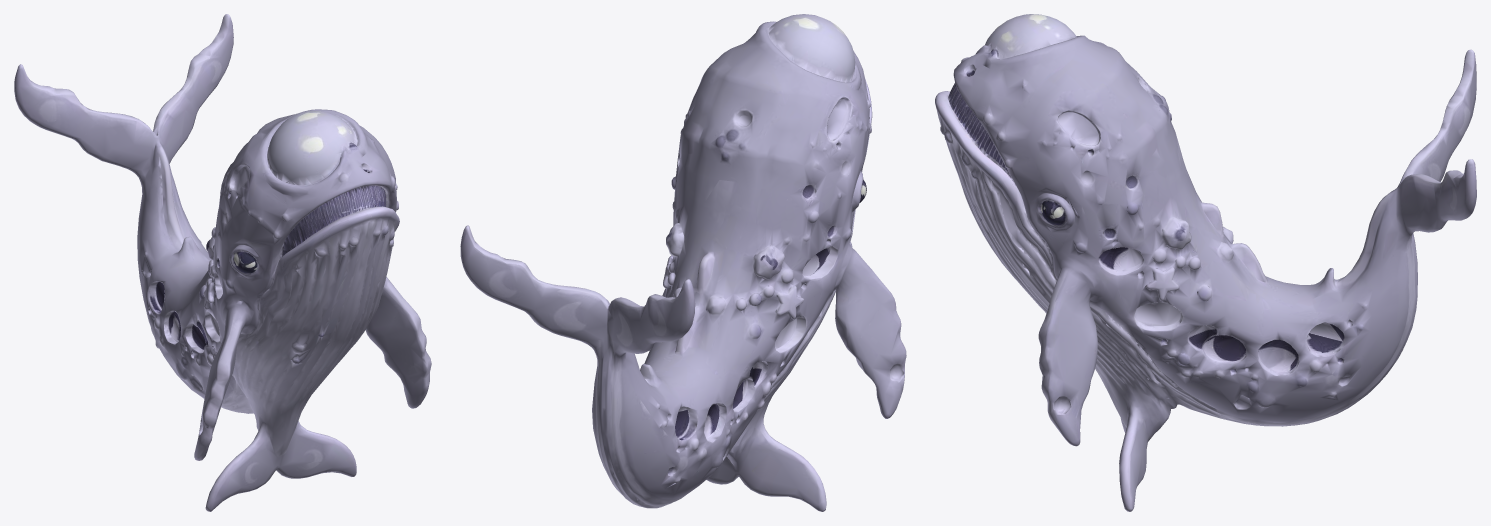
3 renders of one model, left to right at view 1: azimuth 30°, elevation 25°; view 2: azimuth 150°, elevation 25°; view 3: azimuth 270°, elevation 25°, orthographic. The views are drawn at different scales.
Visible parts, largest first — view 1: Mesh_0; view 2: Mesh_0; view 3: Mesh_0.
Boxes of the visible parts, box(x1,y1,x2,y2) form: Mesh_0: box(14, 14, 431, 511); Mesh_0: box(460, 14, 906, 511); Mesh_0: box(935, 14, 1476, 511).
Size of the model in its own units: 1.01 by 1.74 by 1.9.
1 material, 1 textured.
